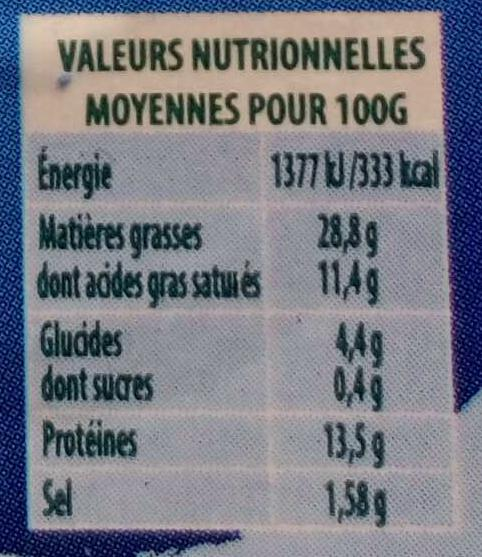column: (36, 149, 261, 520), (271, 150, 440, 523)
line: (54, 37, 425, 122), (39, 214, 431, 257), (36, 148, 436, 188), (44, 421, 425, 462), (43, 320, 429, 360), (39, 264, 431, 303), (40, 368, 429, 407), (43, 480, 426, 518)
table: (15, 13, 463, 530)
